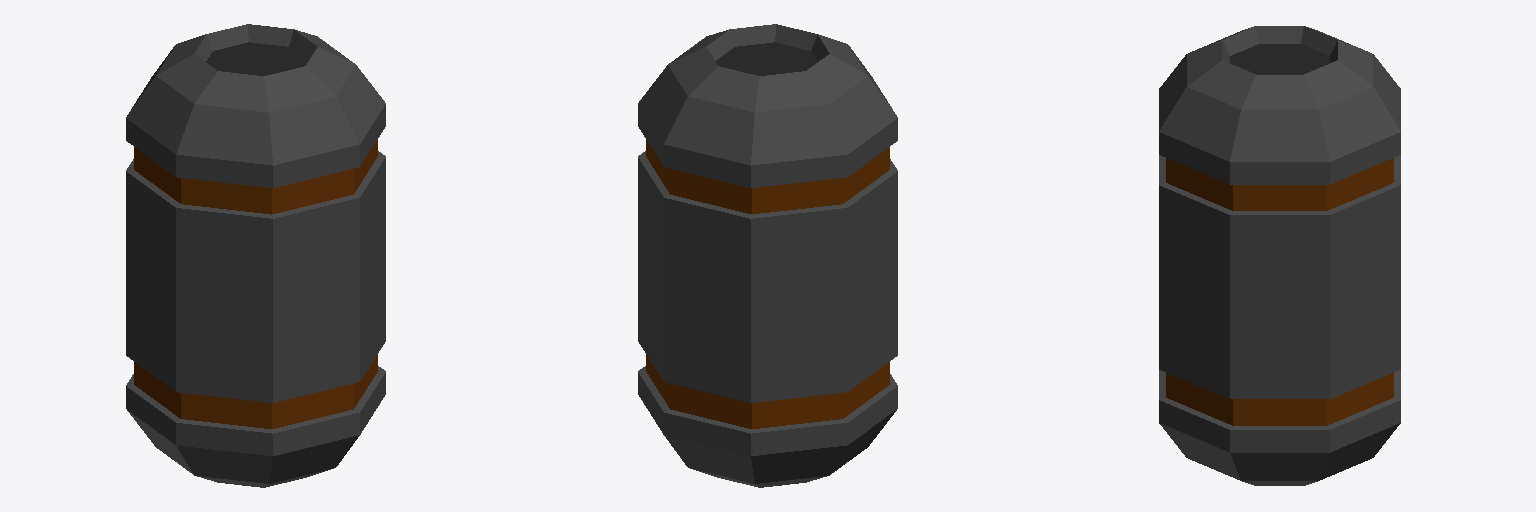
The model's file is Props_Vessel_Short.obj.
3 renders of one model, left to right at view 1: azimuth 30°, elevation 25°; view 2: azimuth 150°, elevation 25°; view 3: azimuth 270°, elevation 25°, orthographic.
Parts seen in each view (by area): view 1: Props_Vessel_Short_Cube.034; view 2: Props_Vessel_Short_Cube.034; view 3: Props_Vessel_Short_Cube.034.
Boxes of the visible parts, <box> form: Props_Vessel_Short_Cube.034: <box>126,24,385,487</box>; Props_Vessel_Short_Cube.034: <box>638,24,897,487</box>; Props_Vessel_Short_Cube.034: <box>1159,26,1400,485</box>.
Bounding box in the file's own units: 0.2873 × 0.538 × 0.2873.